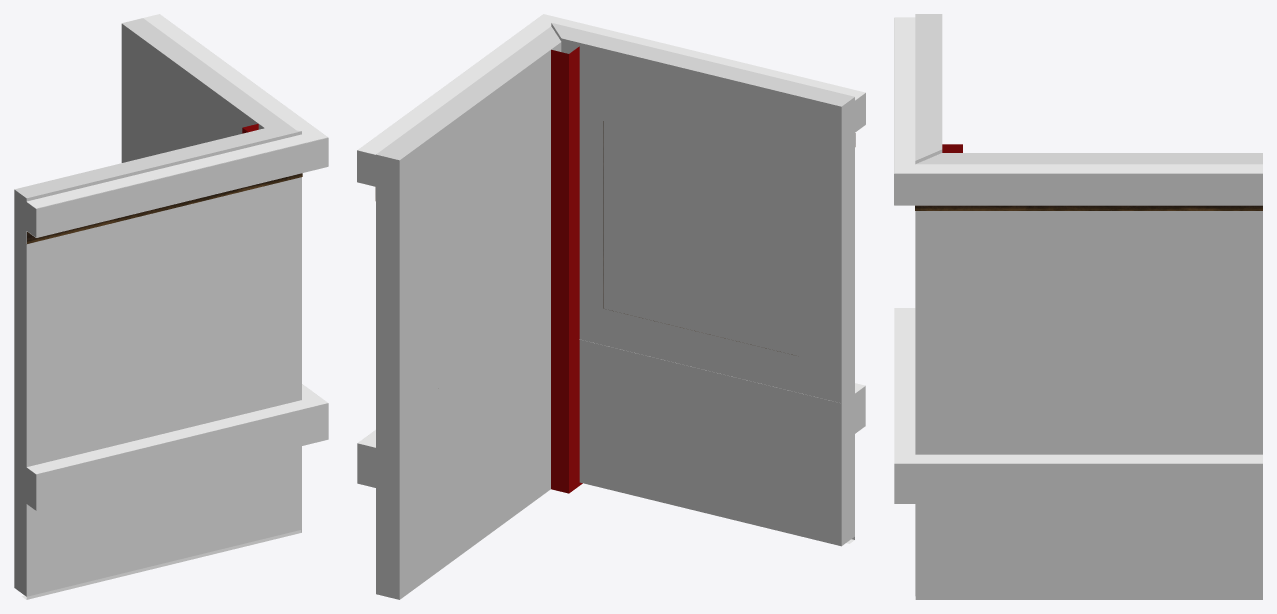
Rendered from Wall_A_Exterior_Window_01_Corner.fbx.
3 renders of one model, left to right at view 1: azimuth 30°, elevation 25°; view 2: azimuth 150°, elevation 25°; view 3: azimuth 270°, elevation 25°, orthographic. The views are drawn at different scales.
Parts seen in each view (by area): view 1: C_Wall_A_Exterior_Window_01_Corner, Wall_A_Exterior_Window_01_Corner; view 2: C_Wall_A_Exterior_Window_01_Corner, Wall_A_Exterior_Window_01_Corner; view 3: C_Wall_A_Exterior_Window_01_Corner, Wall_A_Exterior_Window_01_Corner.
Part boxes in pixels (box(x1,y1,x2,y2)): C_Wall_A_Exterior_Window_01_Corner: box(14, 18, 328, 596); Wall_A_Exterior_Window_01_Corner: box(22, 14, 327, 599); C_Wall_A_Exterior_Window_01_Corner: box(357, 22, 865, 599); Wall_A_Exterior_Window_01_Corner: box(358, 14, 865, 543); C_Wall_A_Exterior_Window_01_Corner: box(894, 14, 1262, 599); Wall_A_Exterior_Window_01_Corner: box(894, 17, 1262, 463).
Size of the model in its own units: 2.3 by 3.02 by 2.3.
